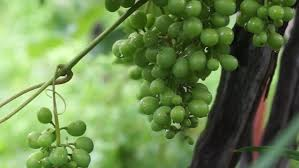grapes: (108, 1, 240, 139), (27, 103, 94, 168), (245, 3, 291, 53)
